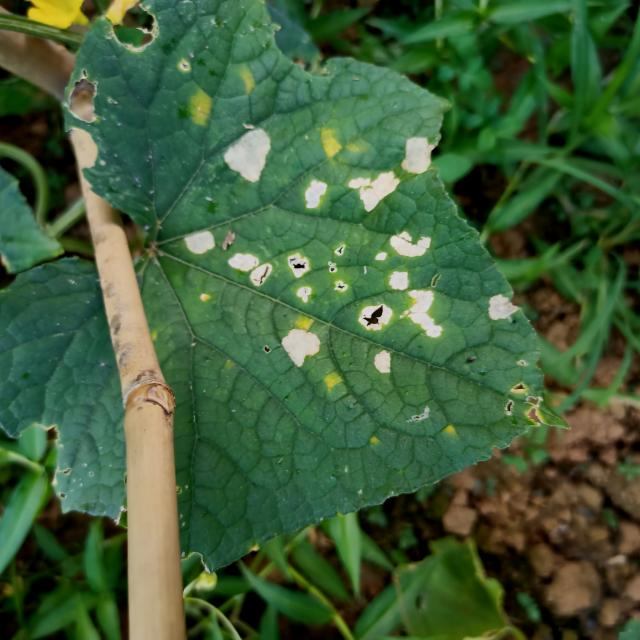disease_cucumber: (225, 222, 448, 383), (218, 122, 273, 186), (346, 170, 400, 218), (172, 224, 218, 264), (400, 135, 442, 175), (180, 89, 218, 131), (317, 121, 356, 161), (298, 176, 330, 219), (487, 292, 521, 331), (319, 369, 348, 397), (236, 65, 259, 95), (292, 310, 320, 332)
